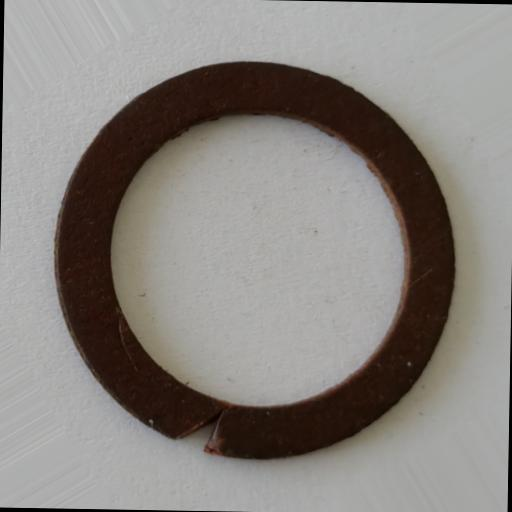defect: (172, 402, 230, 454), (114, 306, 140, 373), (408, 267, 433, 287)
